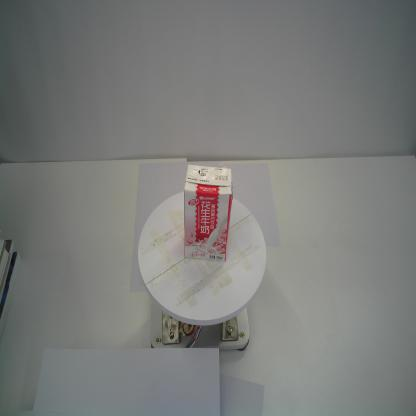Milk: (182, 162, 234, 263)
